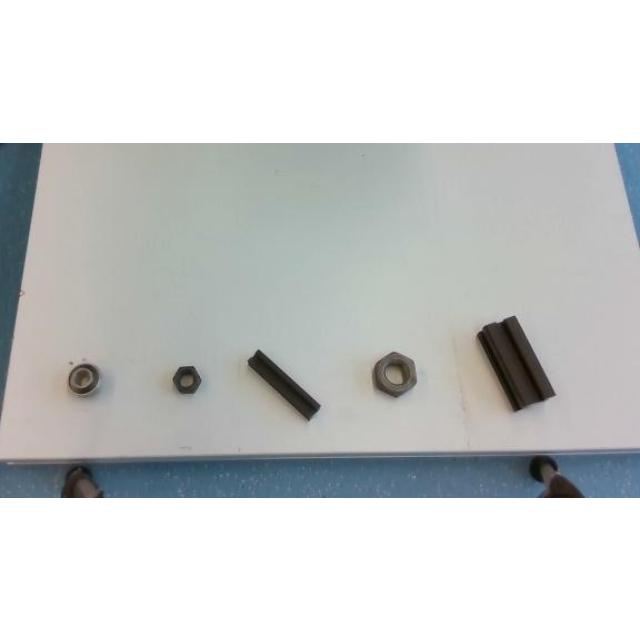Bearing2: (68, 362, 99, 394)
F20_20_B: (248, 349, 318, 418)
M20: (172, 365, 202, 393)
M30: (373, 351, 415, 395)
S40_40_B: (477, 316, 555, 410)
